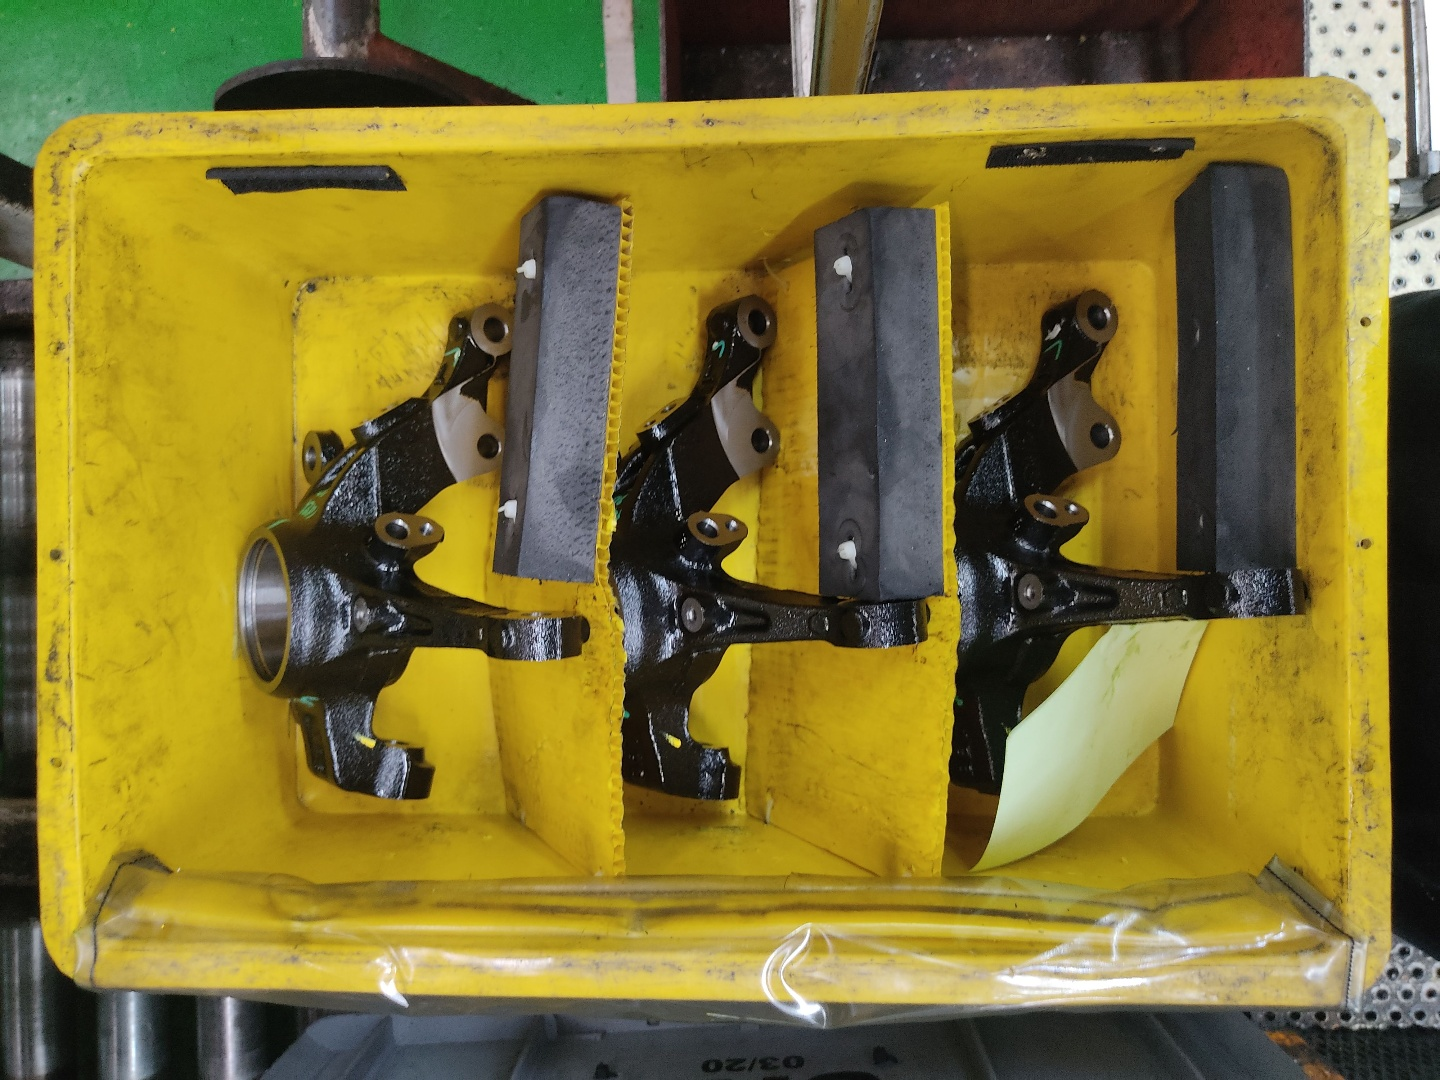abs-lh: (943, 280, 1319, 813), (225, 293, 593, 817), (607, 292, 939, 811)
